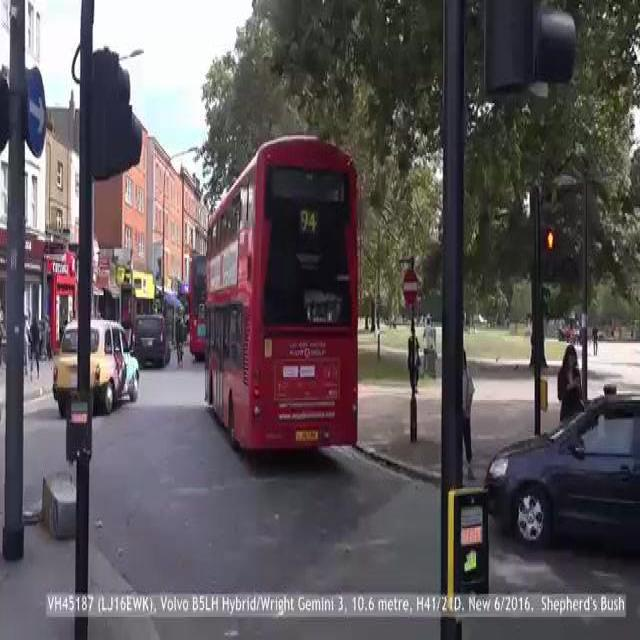motorcycle: (206, 144, 359, 452), (184, 250, 210, 369)
